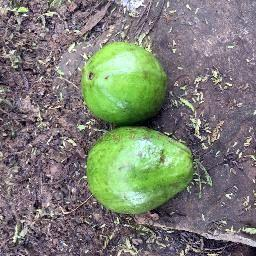guava: (84, 126, 194, 216), (80, 39, 170, 126)
